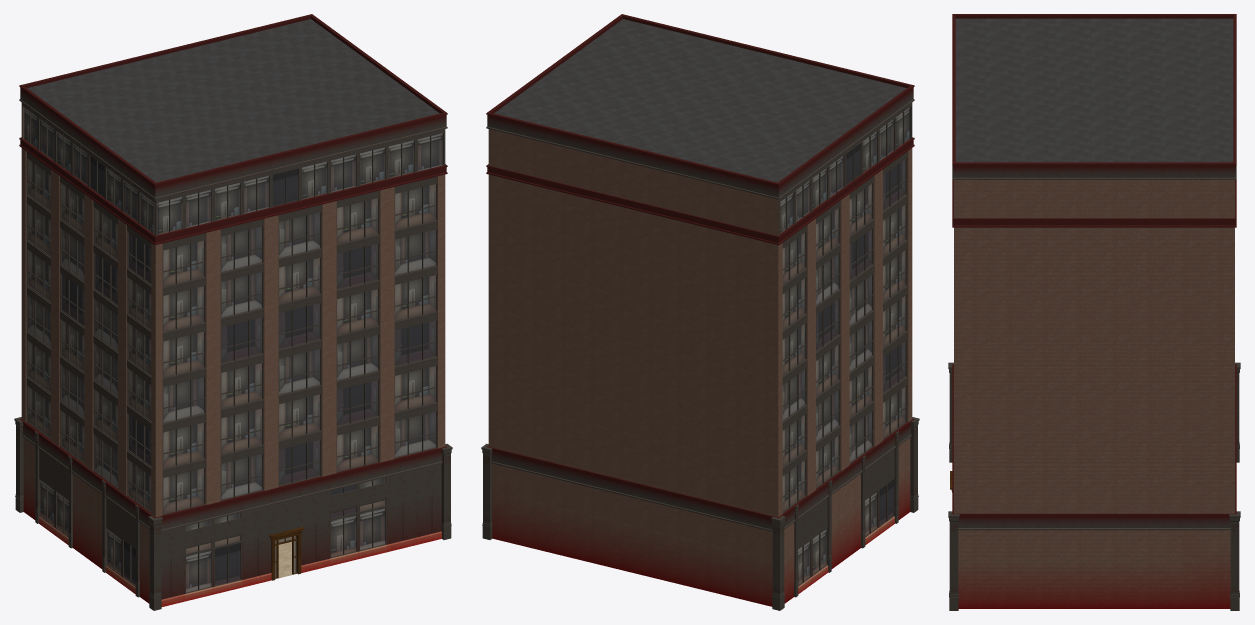
The model's file is Building_Large_2.gltf.
The picture shows the model from 3 angles, left to right: view 1: azimuth 30°, elevation 25°; view 2: azimuth 150°, elevation 25°; view 3: azimuth 270°, elevation 25°; orthographic projection. The views are drawn at different scales.
Parts seen in each view (by area): view 1: Building_Large_2; view 2: Building_Large_2; view 3: Building_Large_2.
Boxes of the visible parts, x1,y1,x2,y2 form: Building_Large_2: (14, 14, 452, 610); Building_Large_2: (481, 14, 919, 610); Building_Large_2: (948, 14, 1240, 610).
Bounding box in the file's own units: 20.64 × 28 × 16.64.
12 materials, 11 textured.
